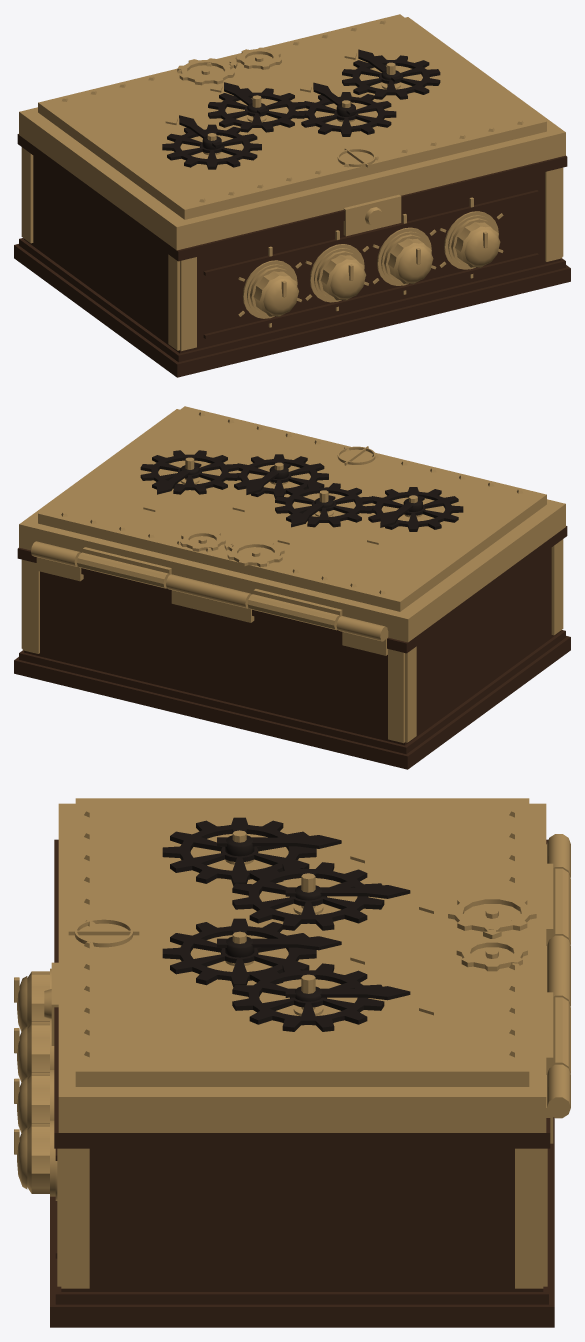
The model's file is strand_box4.glb.
The picture shows the model from 3 angles, top to bottom: view 1: azimuth 30°, elevation 25°; view 2: azimuth 150°, elevation 25°; view 3: azimuth 270°, elevation 25°; orthographic projection. The views are drawn at different scales.
Parts seen in each view (by area): view 1: IA_box_lid, strand_box4, gear_pointer_1, gear_pointer_4, gear_pointer_2, gear_pointer_3, IA_knob_4, IA_knob_2, IA_knob_1, IA_knob_3; view 2: strand_box4, IA_box_lid, gear_pointer_2, gear_pointer_4, gear_pointer_1, gear_pointer_3; view 3: IA_box_lid, strand_box4, gear_pointer_2, gear_pointer_4, gear_pointer_3, gear_pointer_1, IA_knob_4, IA_knob_3, IA_knob_2, IA_knob_1.
Boxes of the visible parts, bbox=[...] form: IA_box_lid: bbox=[19, 14, 565, 250]; strand_box4: bbox=[14, 134, 570, 377]; gear_pointer_1: bbox=[162, 115, 261, 169]; gear_pointer_4: bbox=[342, 49, 440, 99]; gear_pointer_2: bbox=[208, 82, 305, 132]; gear_pointer_3: bbox=[299, 82, 396, 136]; IA_knob_4: bbox=[451, 218, 500, 267]; IA_knob_2: bbox=[317, 251, 366, 300]; IA_knob_1: bbox=[250, 267, 298, 316]; IA_knob_3: bbox=[384, 234, 433, 284]; strand_box4: bbox=[14, 526, 570, 769]; IA_box_lid: bbox=[19, 406, 565, 642]; gear_pointer_2: bbox=[275, 483, 373, 527]; gear_pointer_4: bbox=[140, 450, 238, 494]; gear_pointer_1: bbox=[367, 487, 463, 531]; gear_pointer_3: bbox=[231, 454, 328, 498]; IA_box_lid: bbox=[44, 798, 570, 1132]; strand_box4: bbox=[50, 834, 570, 1327]; gear_pointer_2: bbox=[232, 862, 410, 930]; gear_pointer_4: bbox=[232, 963, 410, 1031]; gear_pointer_3: bbox=[162, 918, 341, 987]; gear_pointer_1: bbox=[162, 817, 341, 886]; IA_knob_4: bbox=[14, 1120, 55, 1196]; IA_knob_3: bbox=[14, 1070, 54, 1132]; IA_knob_2: bbox=[14, 1019, 54, 1081]; IA_knob_1: bbox=[14, 968, 51, 1031].
Bounding box in the file's own units: 0.496 × 0.216 × 0.393.
